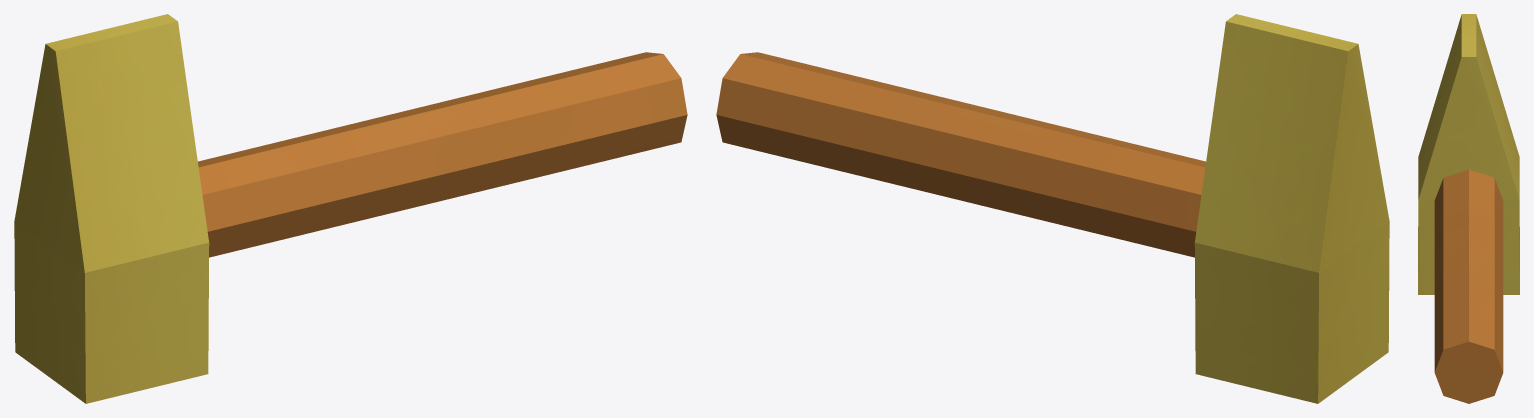
The model's file is Hammer_2.fbx.
3 renders of one model, left to right at view 1: azimuth 30°, elevation 25°; view 2: azimuth 150°, elevation 25°; view 3: azimuth 270°, elevation 25°, orthographic. The views are drawn at different scales.
Visible parts, largest first — view 1: Hammer 2; view 2: Hammer 2; view 3: Hammer 2.
Part boxes in pixels (box(x1,y1,x2,y2)): Hammer 2: box(14, 14, 687, 403); Hammer 2: box(716, 14, 1389, 403); Hammer 2: box(1418, 14, 1519, 403).
Bounding box in the file's own units: 47.33 × 24.34 × 9.44.
